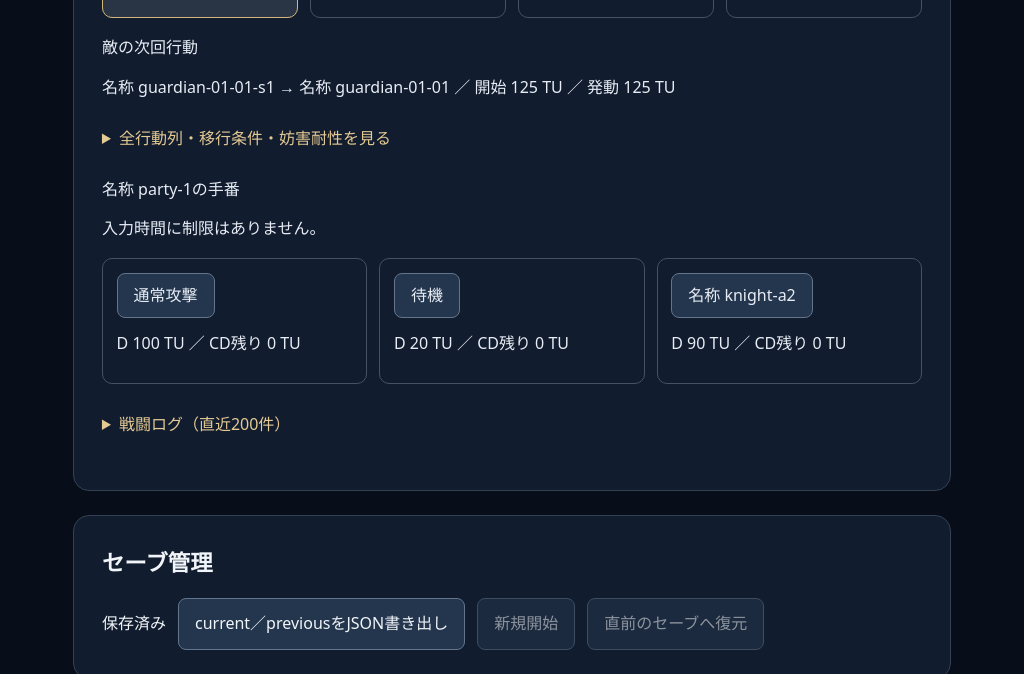
戦闘操作と保存の画面接続 › 未保存勝利の放棄は確認を経て親分岐へ戻り、報酬を付与しない
This screenshot has width=1024, height=674.
(page scrolled)
Click the button "通常攻撃" at (166, 296), box [116, 273, 214, 318]
(page scrolled)
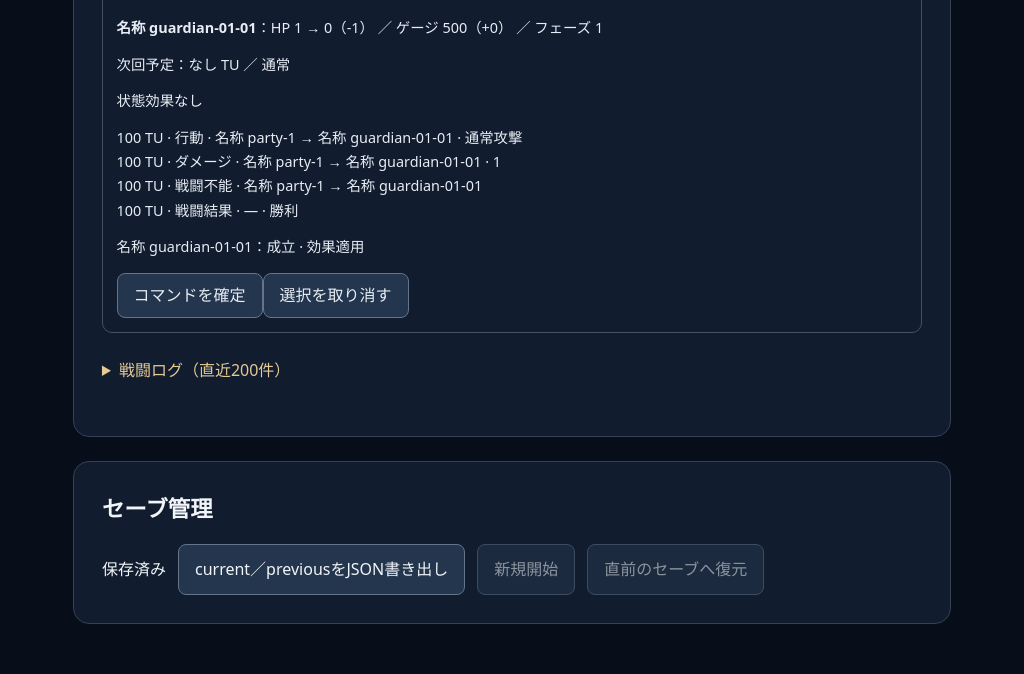
Click the button "コマンドを確定" at (190, 295), box [116, 273, 262, 318]
(page scrolled)
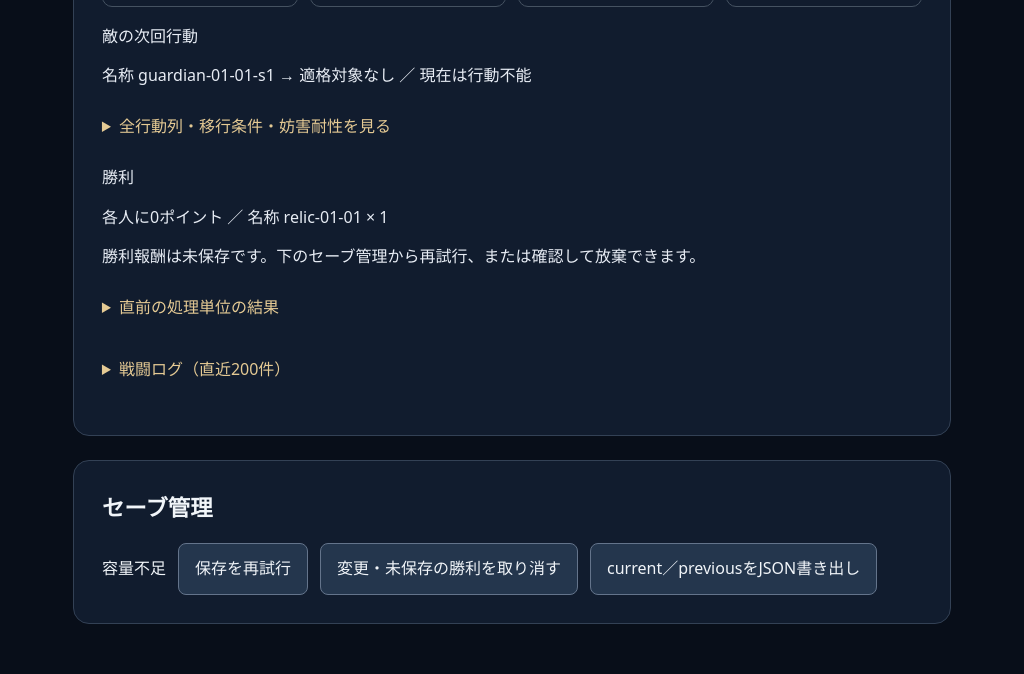
Result: the button "変更・未保存の勝利を取り消す" is shown
Click the button "変更・未保存の勝利を取り消す" at (449, 569), box [320, 544, 578, 595]
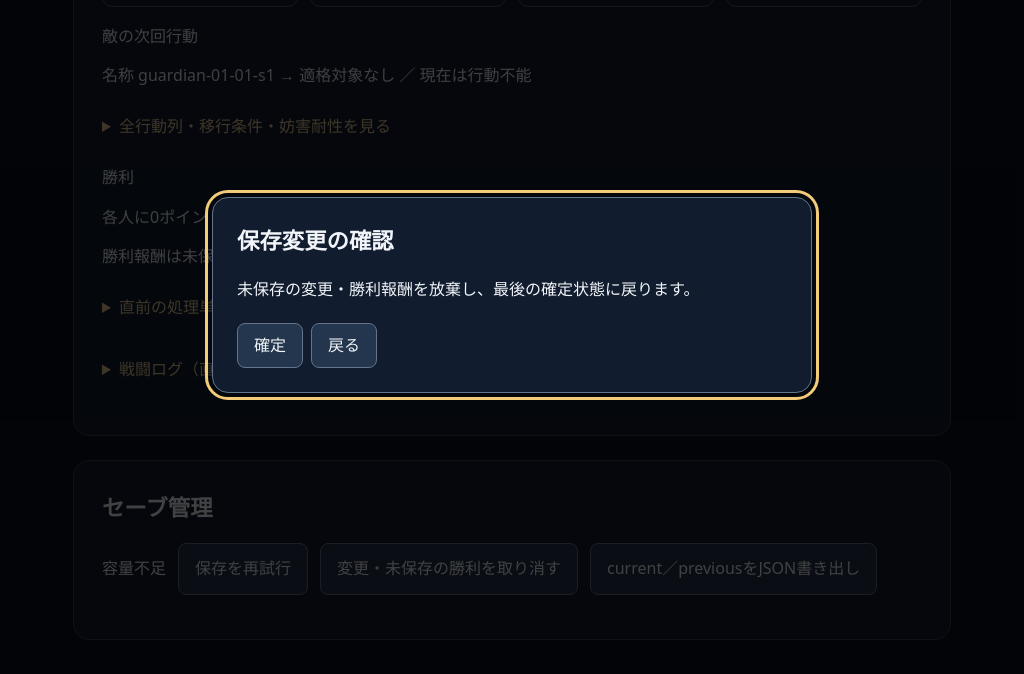
Result: the dialog shows "勝利報酬を放棄" at [237, 278, 699, 300]
Click the button "確定" at (270, 346), box [237, 323, 303, 368]
(page scrolled)
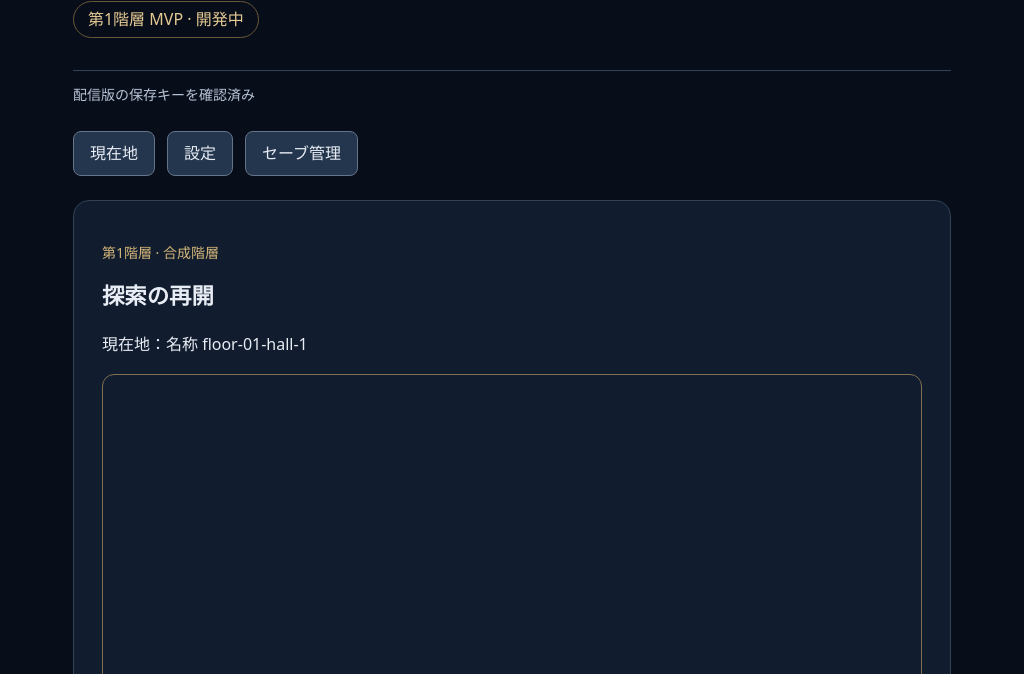
Result: the heading "探索の再開" is shown at [102, 280, 214, 311]
